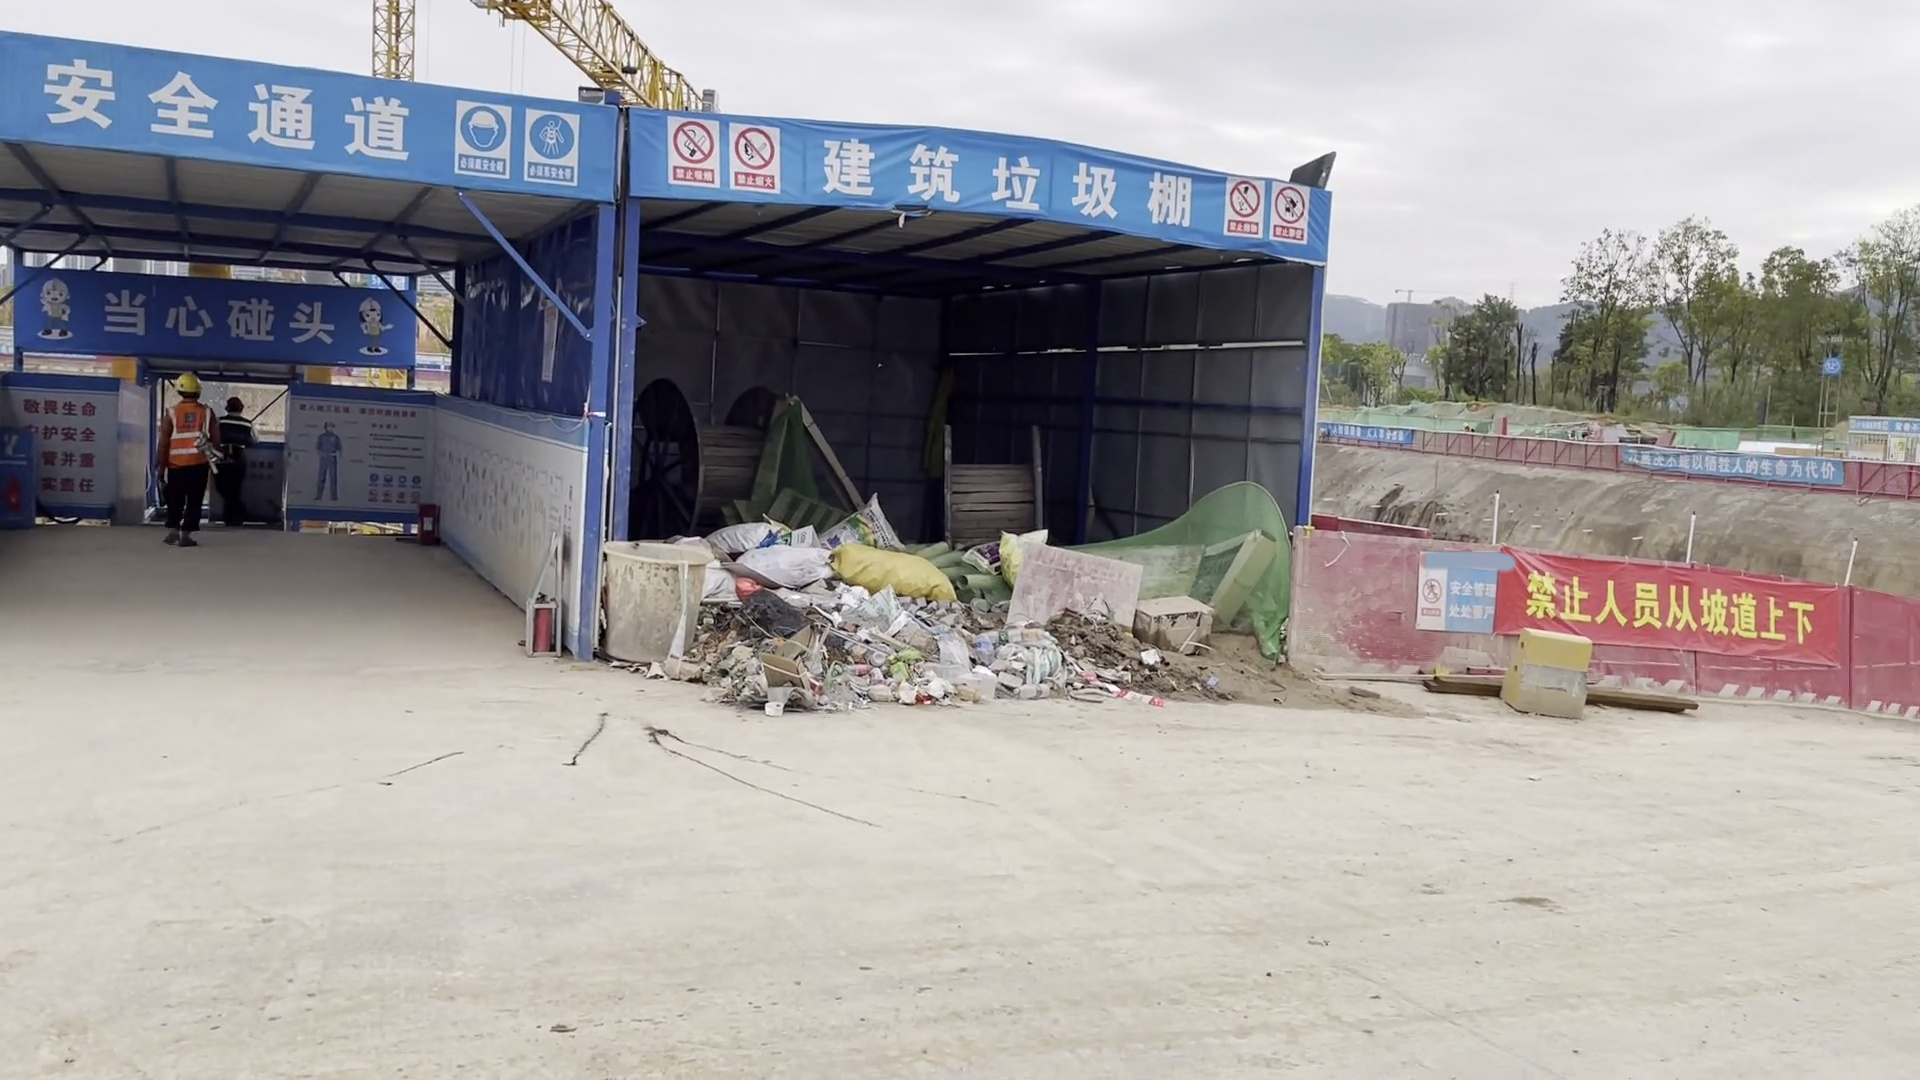helmet: (169, 379, 206, 403)
person: (147, 368, 217, 566)
slogan: (6, 40, 1325, 255), (15, 277, 404, 375), (1488, 542, 1832, 649), (1612, 444, 1845, 485), (1310, 416, 1421, 453)
vest: (162, 407, 212, 470)
